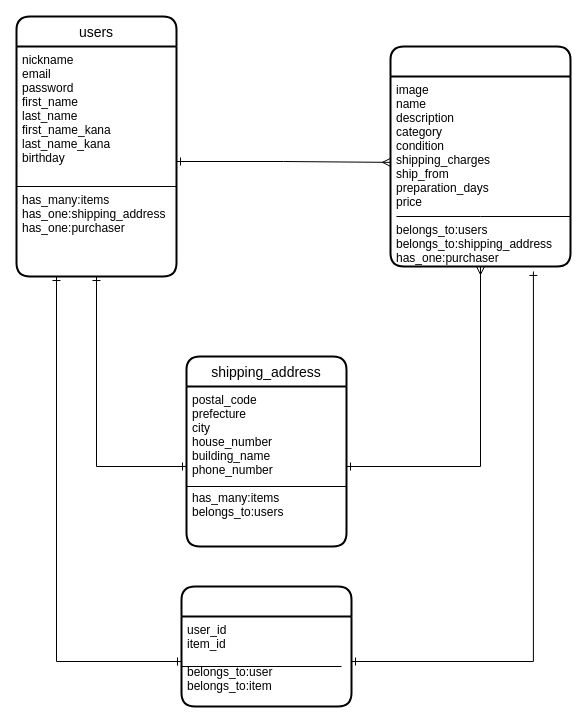
Some shapes in this 587 by 723 pixel diagram are drawn without their labels. The shapes that lost their labels are listed below. From the top down, each one's box as (x1, y1, x2, y2) in pixels, then its label:
(389, 45, 571, 267): items
(180, 585, 352, 707): purchaser
